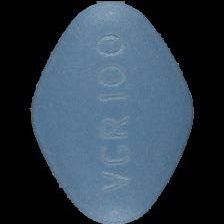21695-158: (0, 0, 224, 224)
